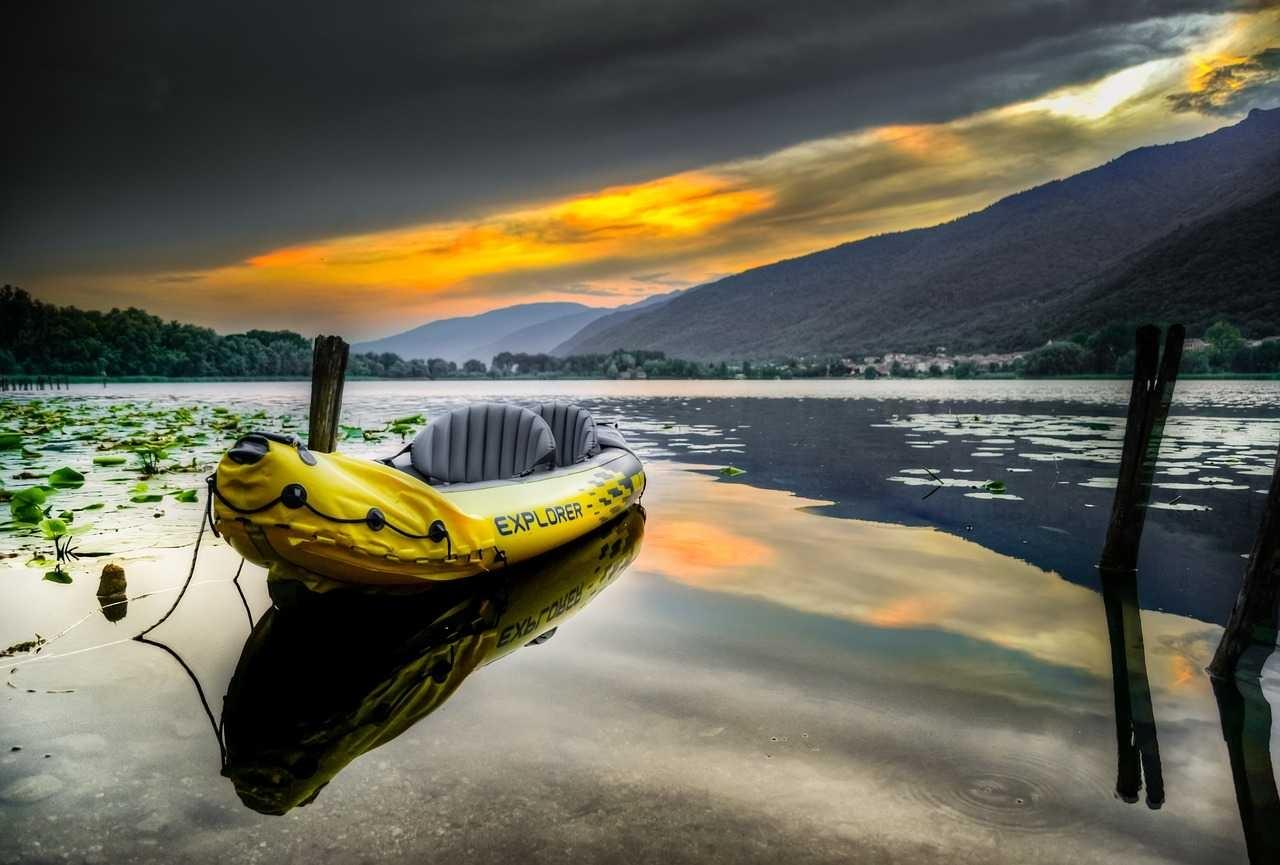kayak: (207, 409, 645, 591)
